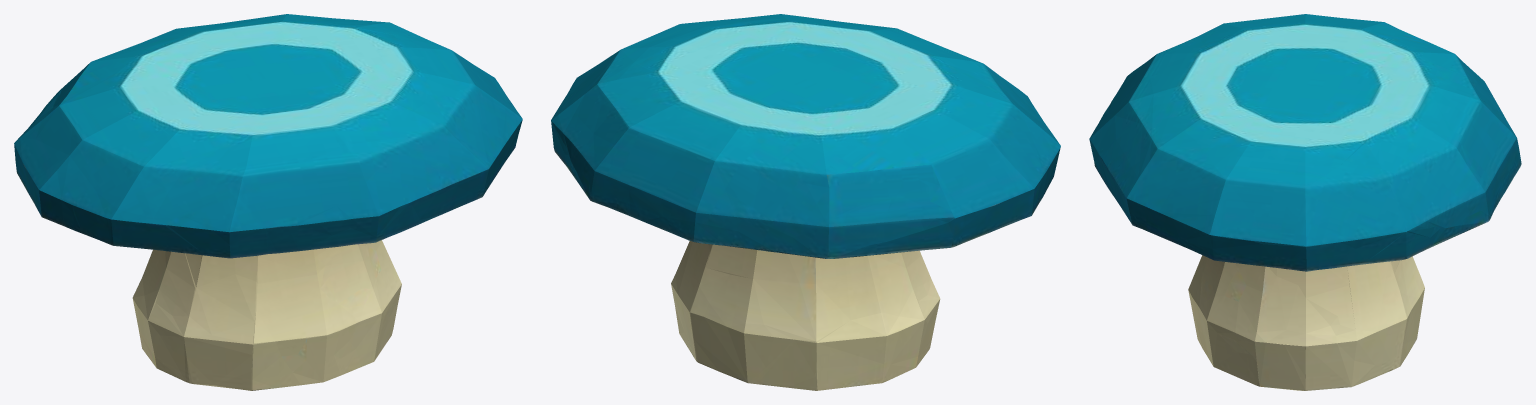
The model's file is d_mycelium_tremplin.glb.
The picture shows the model from 3 angles, left to right: view 1: azimuth 30°, elevation 25°; view 2: azimuth 150°, elevation 25°; view 3: azimuth 270°, elevation 25°; orthographic projection. The views are drawn at different scales.
Visible parts, largest first — view 1: geometry_0; view 2: geometry_0; view 3: geometry_0.
Boxes of the visible parts, left/top/right/bottom form: geometry_0: left=14, top=14, right=522, bottom=390; geometry_0: left=551, top=14, right=1060, bottom=390; geometry_0: left=1089, top=14, right=1521, bottom=390.
Bounding box in the file's own units: 0.9986 × 0.5487 × 0.8466.
1 material, 1 textured.
